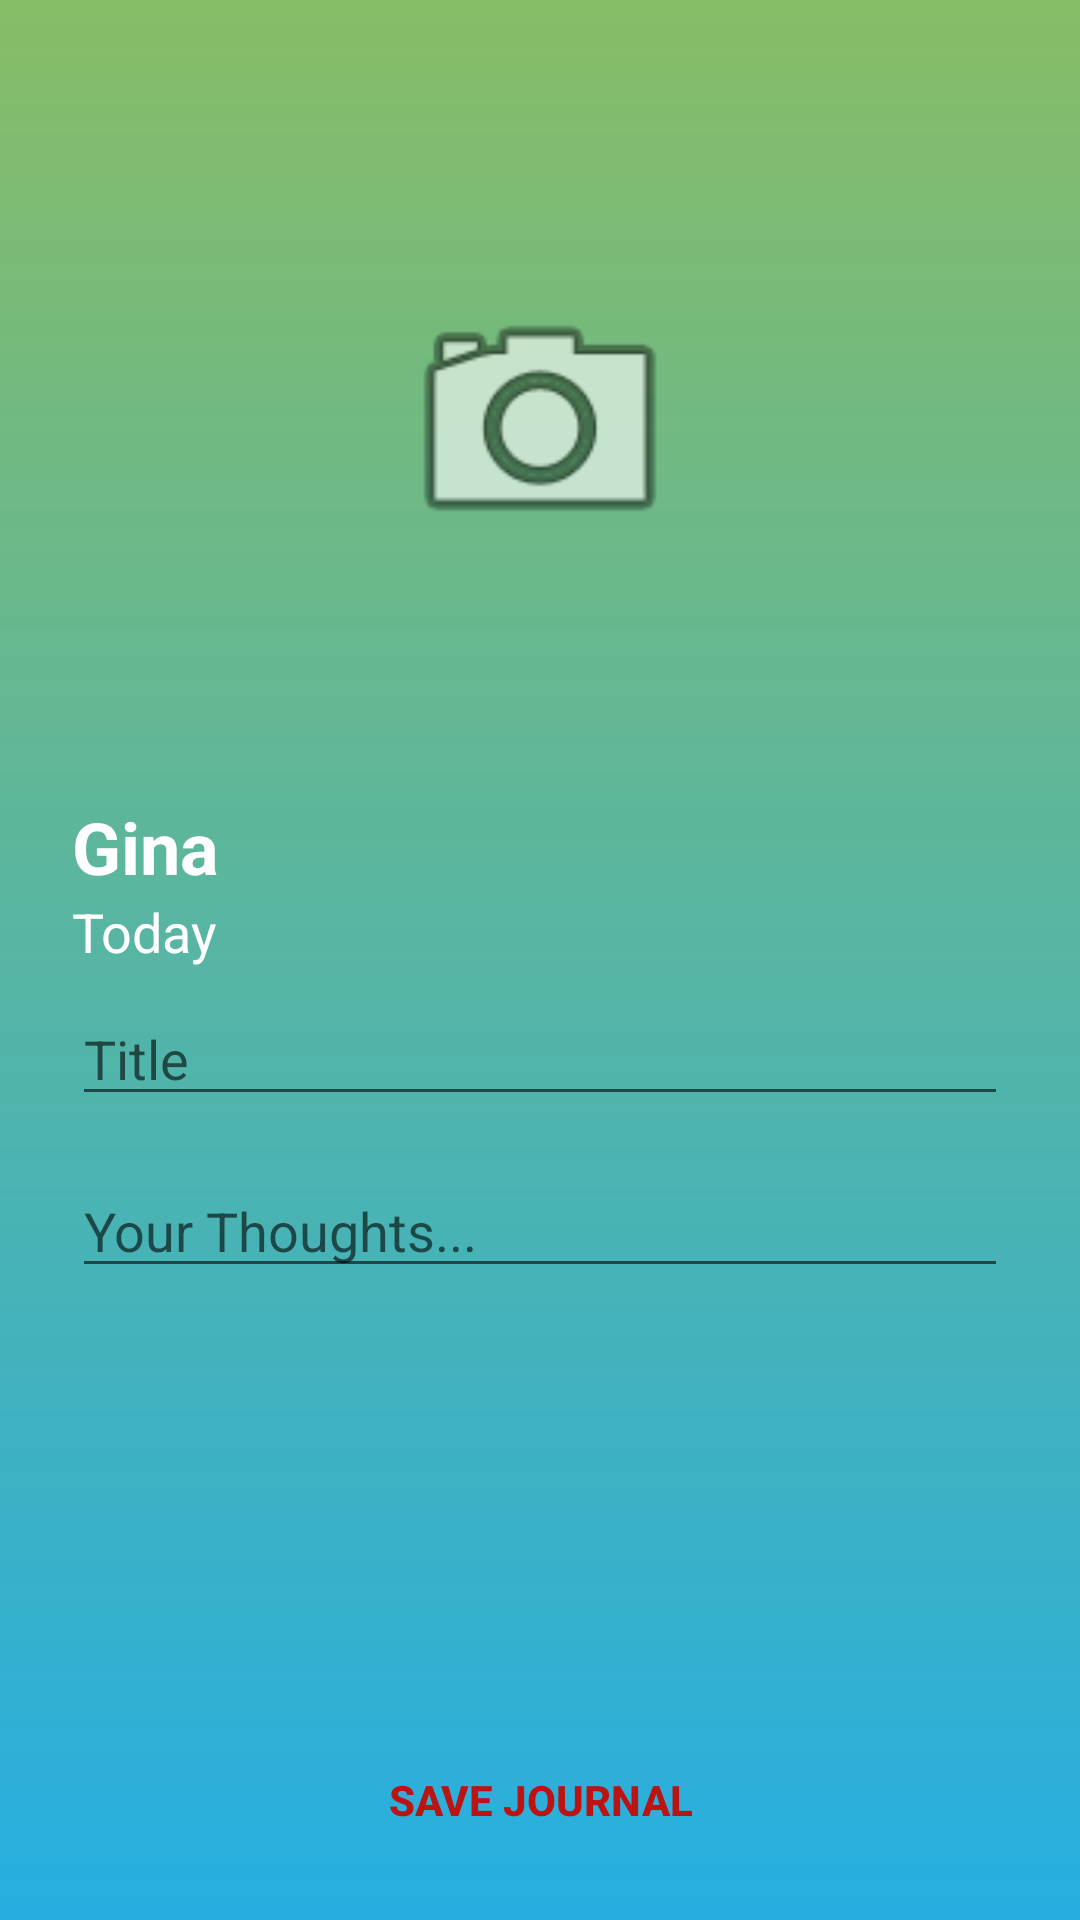

Locate icon controls on the screen. Image size 1080 x 1920, boxes as (x1, y1, x2, y2).
camera: (424, 325, 656, 511)
